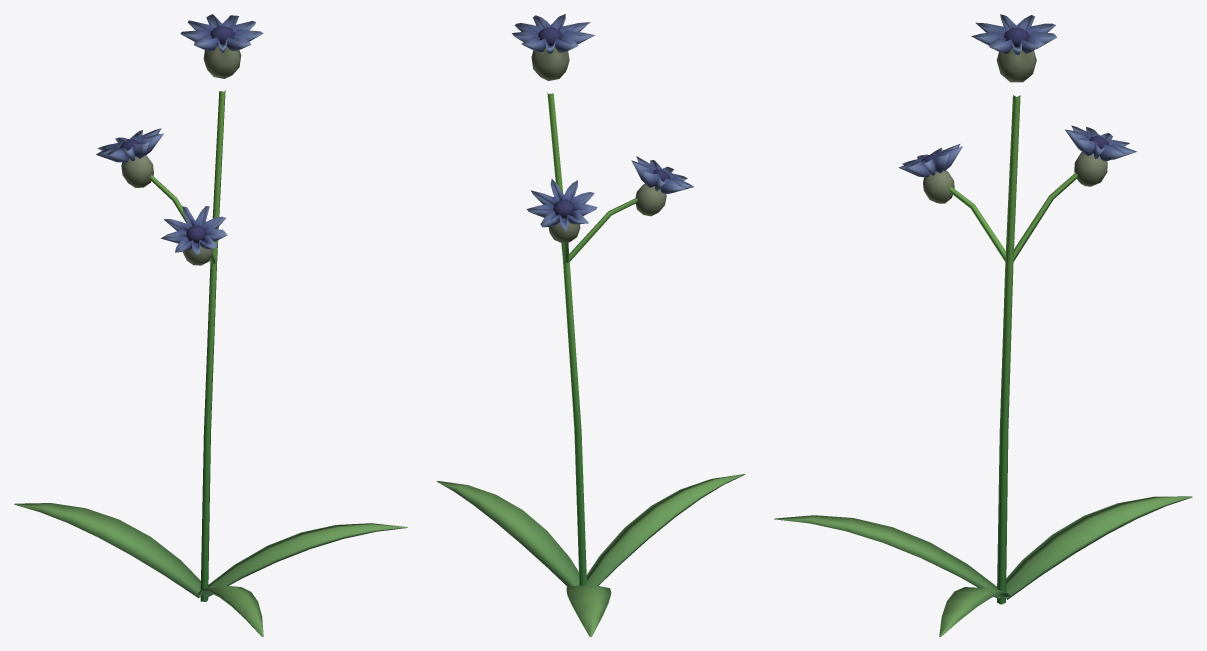
The model's file is cornflower.glb.
3 views of the same model, side by side, from view 1: azimuth 30°, elevation 25°; view 2: azimuth 150°, elevation 25°; view 3: azimuth 270°, elevation 25° (orthographic). The views are drawn at different scales.
Parts seen in each view (by area): view 1: cornflower; view 2: cornflower; view 3: cornflower.
Part boxes in pixels (x1,y1,x2,y2): cornflower: (14, 14, 407, 636); cornflower: (436, 14, 745, 636); cornflower: (774, 14, 1192, 636).
Bounding box in the file's own units: 0.0861 × 0.169 × 0.1094.
